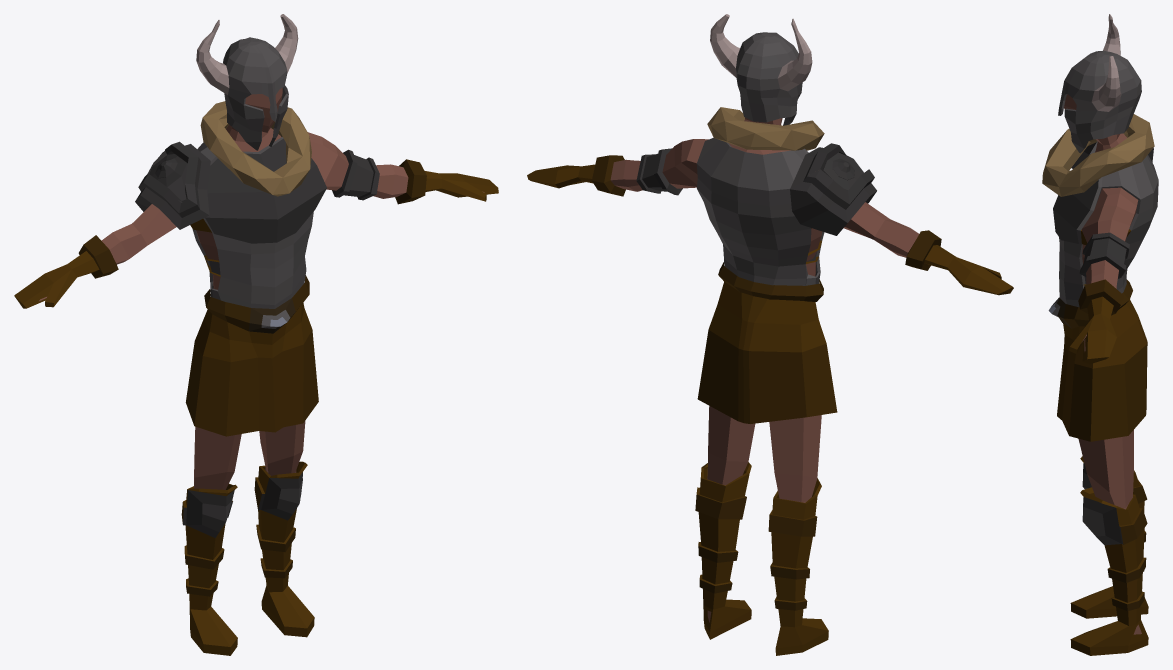
Rendered from viking.glb.
3 views of the same model, side by side, from view 1: azimuth 30°, elevation 25°; view 2: azimuth 150°, elevation 25°; view 3: azimuth 270°, elevation 25° (orthographic). The views are drawn at different scales.
Visible parts, largest first — view 1: Shirt_Cylinder.005, Skirt_Cylinder.011, Boots_Cylinder.004, Body_Cylinder, Helmet_Cylinder.002, Gloves_Cylinder.008, NurbsCurve, Shoulder_Cylinder.003, Belt_Cylinder.001, Armband_Cylinder.010; view 2: Skirt_Cylinder.011, Shirt_Cylinder.005, Boots_Cylinder.004, Body_Cylinder, Helmet_Cylinder.002, Shoulder_Cylinder.003, Gloves_Cylinder.008, NurbsCurve, Belt_Cylinder.001, Armband_Cylinder.010; view 3: Skirt_Cylinder.011, Boots_Cylinder.004, Body_Cylinder, Helmet_Cylinder.002, Shirt_Cylinder.005, NurbsCurve, Gloves_Cylinder.008, Armband_Cylinder.010, Belt_Cylinder.001, Shoulder_Cylinder.003.
Boxes of the visible parts, left/top/right/bottom form: Shirt_Cylinder.005: left=190, top=136, right=326, bottom=308; Skirt_Cylinder.011: left=185, top=302, right=318, bottom=436; Boots_Cylinder.004: left=181, top=461, right=314, bottom=655; Body_Cylinder: left=39, top=88, right=484, bottom=489; Helmet_Cylinder.002: left=196, top=14, right=298, bottom=150; Gloves_Cylinder.008: left=14, top=159, right=498, bottom=308; NurbsCurve: left=200, top=101, right=311, bottom=196; Shoulder_Cylinder.003: left=135, top=141, right=210, bottom=229; Belt_Cylinder.001: left=204, top=275, right=309, bottom=333; Armband_Cylinder.010: left=332, top=149, right=379, bottom=200; Skirt_Cylinder.011: left=697, top=281, right=837, bottom=423; Shirt_Cylinder.005: left=696, top=138, right=824, bottom=285; Boots_Cylinder.004: left=695, top=462, right=828, bottom=655; Body_Cylinder: left=610, top=117, right=918, bottom=622; Helmet_Cylinder.002: left=710, top=14, right=812, bottom=125; Shoulder_Cylinder.003: left=790, top=143, right=876, bottom=235; Gloves_Cylinder.008: left=527, top=155, right=1013, bottom=295; NurbsCurve: left=707, top=107, right=824, bottom=150; Belt_Cylinder.001: left=718, top=262, right=823, bottom=301; Armband_Cylinder.010: left=636, top=148, right=682, bottom=195; Skirt_Cylinder.011: left=1057, top=299, right=1147, bottom=441; Boots_Cylinder.004: left=1070, top=456, right=1148, bottom=655; Body_Cylinder: left=1064, top=94, right=1141, bottom=634; Helmet_Cylinder.002: left=1058, top=14, right=1141, bottom=153; Shirt_Cylinder.005: left=1053, top=141, right=1158, bottom=307; NurbsCurve: left=1042, top=114, right=1154, bottom=196; Gloves_Cylinder.008: left=1069, top=279, right=1124, bottom=364; Armband_Cylinder.010: left=1079, top=232, right=1129, bottom=278; Belt_Cylinder.001: left=1048, top=279, right=1132, bottom=328; Shoulder_Cylinder.003: left=1071, top=142, right=1153, bottom=168.
Size of the model in its own units: 2.79 by 3.48 by 0.6098.
